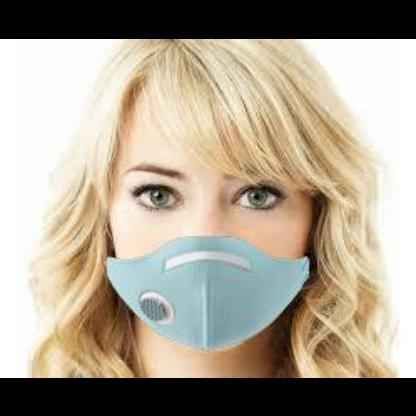FFP Mask: (96, 102, 322, 350)
